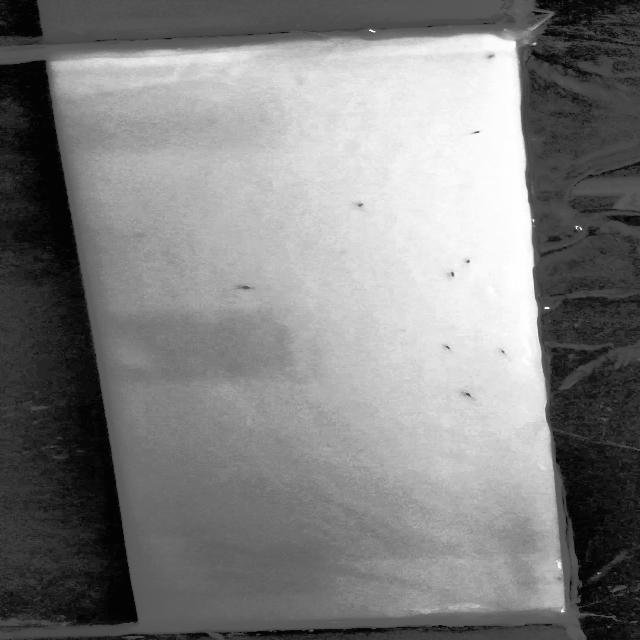shrimp: (443, 266, 464, 284), (491, 344, 512, 358), (439, 340, 458, 353), (232, 284, 256, 294), (459, 128, 484, 137), (462, 390, 481, 400), (349, 201, 366, 211), (482, 52, 499, 61), (457, 258, 476, 264)
